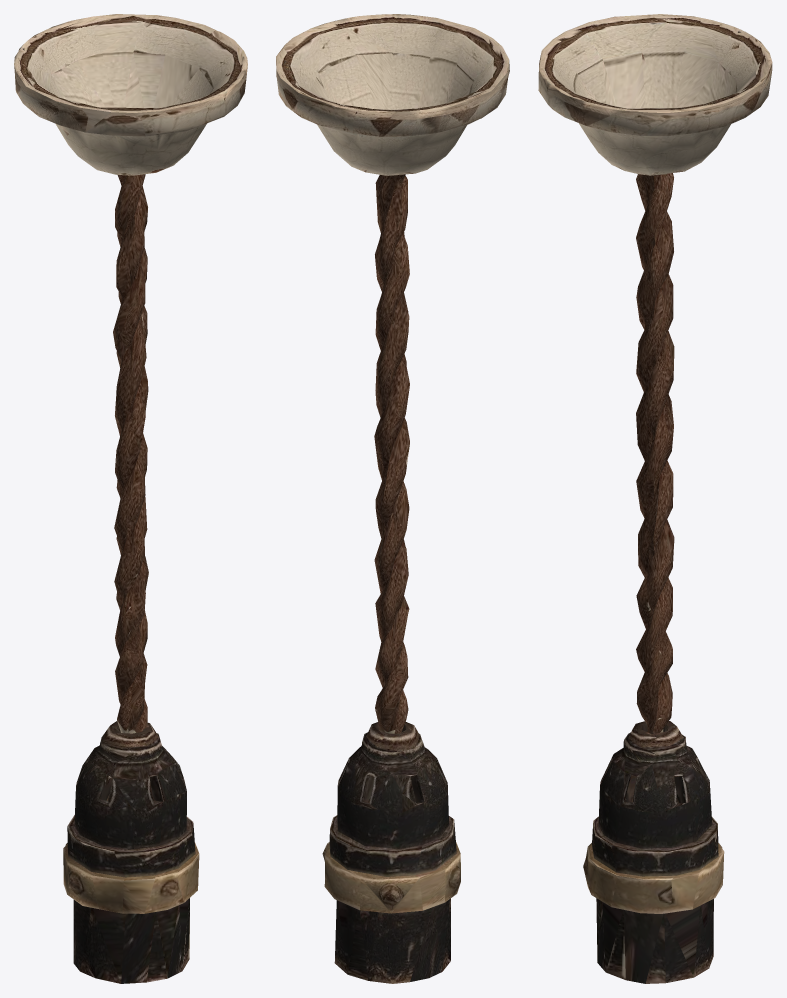
File: up_bulb_fixture.glb
3 renders of one model, left to right at view 1: azimuth 30°, elevation 25°; view 2: azimuth 150°, elevation 25°; view 3: azimuth 270°, elevation 25°, orthographic.
Parts seen in each view (by area): view 1: up_bulb_fixture; view 2: up_bulb_fixture; view 3: up_bulb_fixture.
Boxes of the visible parts, box(x1,y1,x2,y2) form: up_bulb_fixture: box(14, 14, 247, 983); up_bulb_fixture: box(276, 14, 509, 983); up_bulb_fixture: box(538, 14, 772, 983).
Bounding box in the file's own units: 0.1422 × 0.6 × 0.1417.
Materials: 1 (1 with a texture image).
